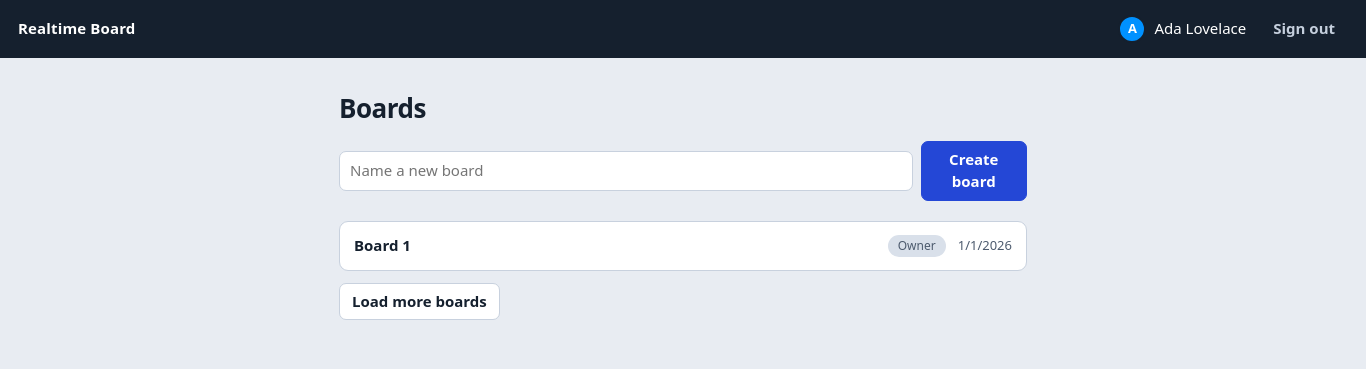
it: BoardsPage paging › keeps what is shown, and the button, when a page fails to load
Check: the link "Board 1" is shown, box x1=354 y1=235 x2=411 y2=255
Click the button "Load more boards". click: x=419, y=302
box: x1=339 y1=283 x2=500 y2=320
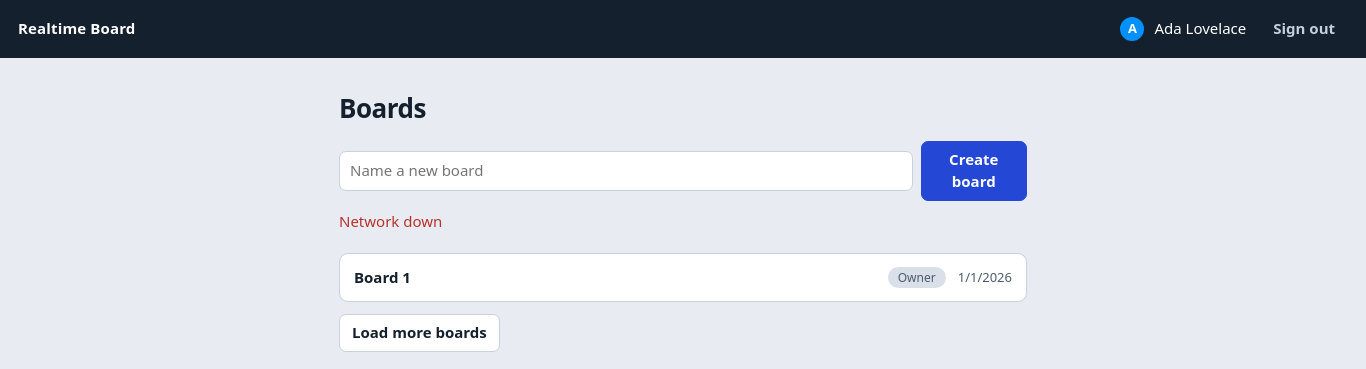
Check: the link "Board 1" is shown, box x1=354 y1=267 x2=411 y2=287
Check: the message reads "Network down", box x1=339 y1=211 x2=442 y2=231
